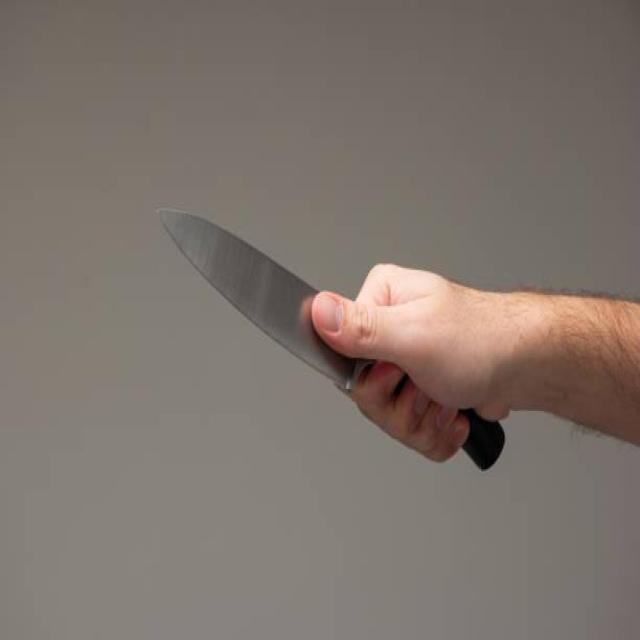faca: (145, 188, 543, 490)
